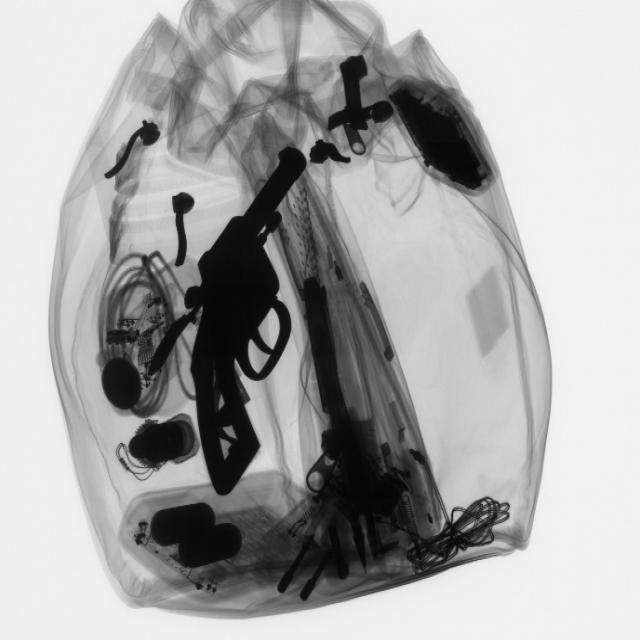GUN: (180, 147, 303, 503)
